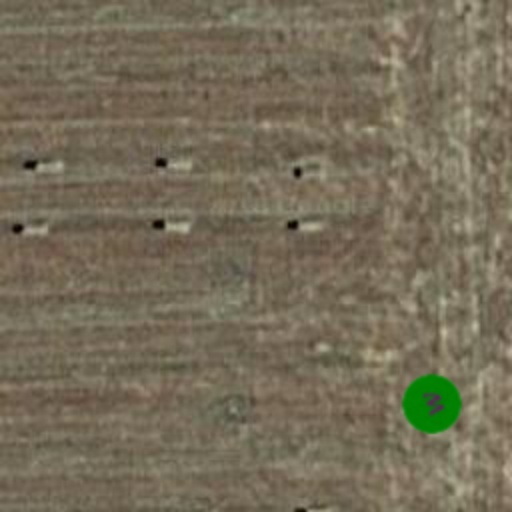circle: (394, 366, 470, 442)
